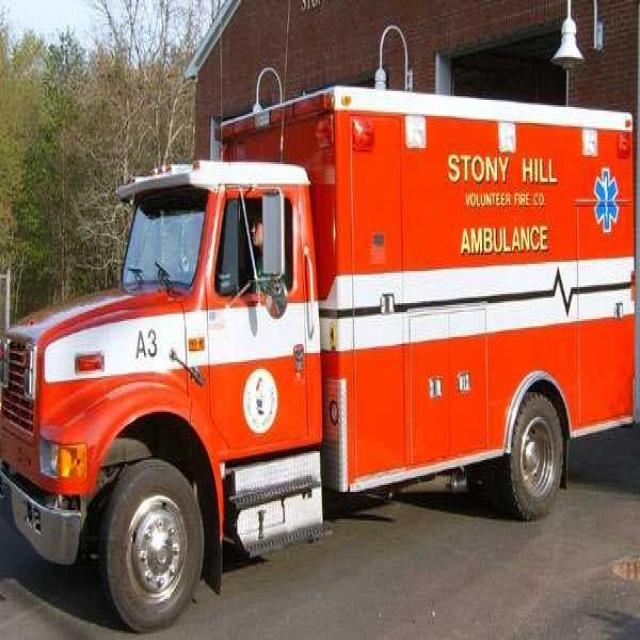emergency-vehicle: (2, 44, 634, 617)
